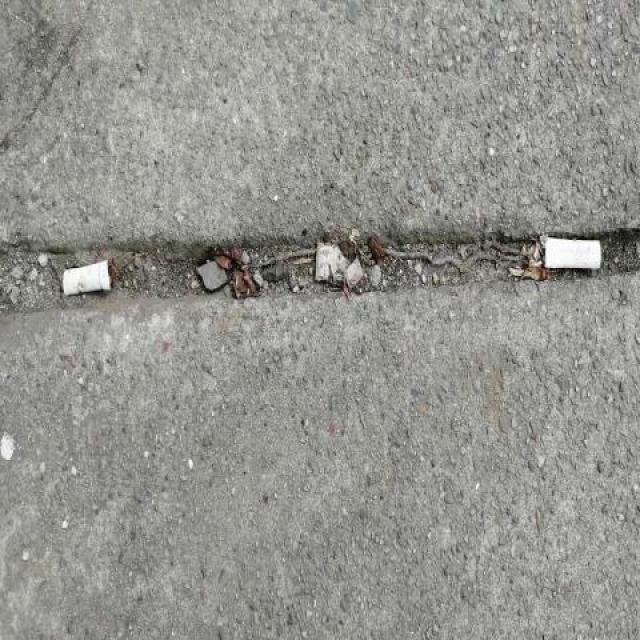non-organic waste: (540, 232, 605, 276), (59, 256, 117, 300)
